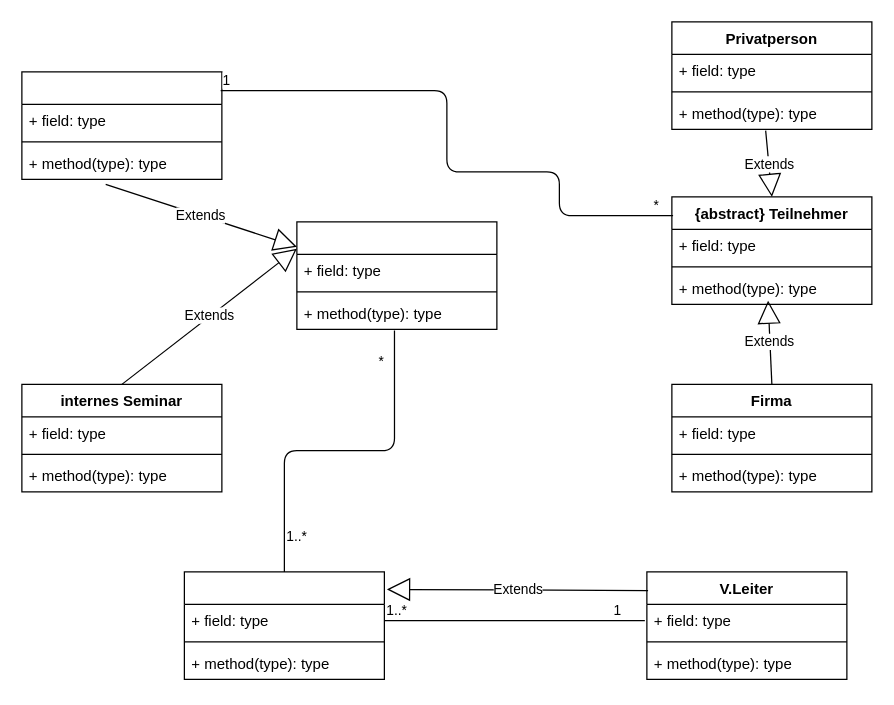
Some shapes in this 894 by 705 pixel diagram are drawn without their labels. Each missing label, with the box of its shape:
Dozent: (183, 571, 384, 679)
{abstract} Seminar: (296, 221, 497, 329)
öffentliches Seminar: (21, 71, 222, 179)
